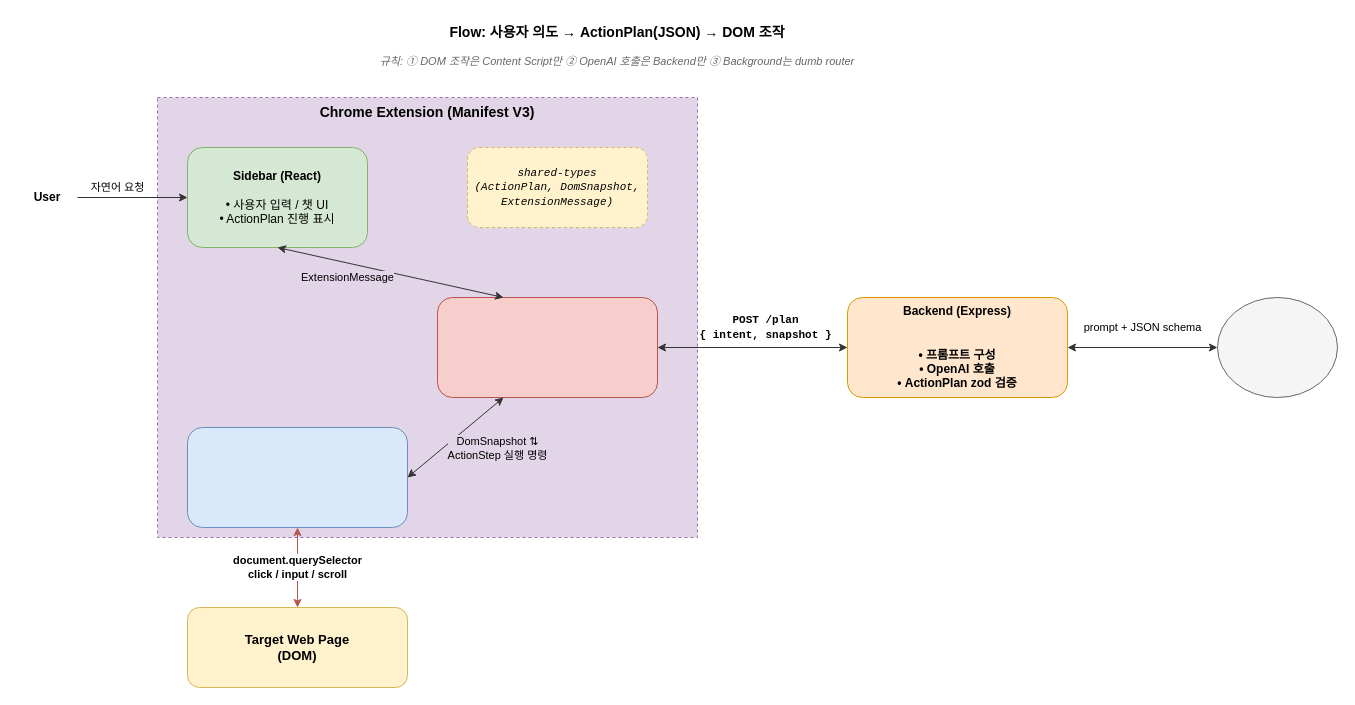
The diagram is 1355 pixels wide and 705 high, and some of its shapes have lost their labels. Each missing label, with the centre of its shape:
"Background Service Worker Message Router (Sidebar ↔ Content ↔ Backend)" belongs at (547,347).
"Content Script • DOM Snapshot 추출 • Overlay / Highlight 렌더링 • 클릭 / 입력 자동 실행" belongs at (297,477).
"OpenAI API" belongs at (1277,347).
